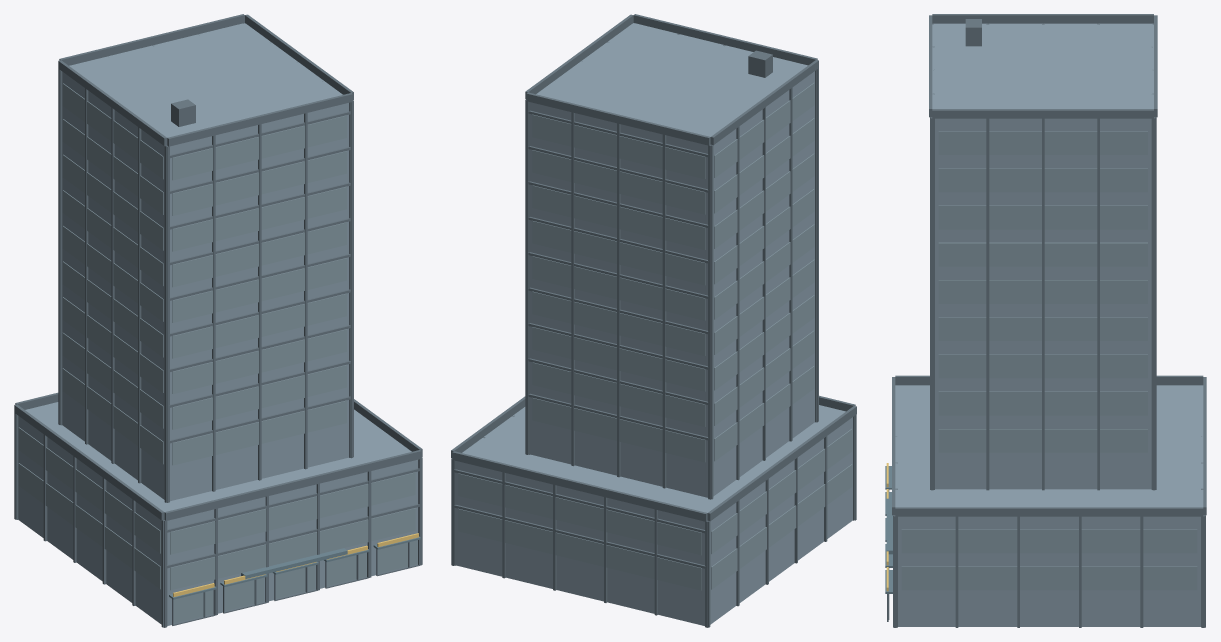
The model's file is commercial_3x3_b.glb.
3 renders of one model, left to right at view 1: azimuth 30°, elevation 25°; view 2: azimuth 150°, elevation 25°; view 3: azimuth 270°, elevation 25°, orthographic. The views are drawn at different scales.
Parts seen in each view (by area): view 1: commercial_3x3_b_0; view 2: commercial_3x3_b_0; view 3: commercial_3x3_b_0.
Boxes of the visible parts, x1=… form: commercial_3x3_b_0: x1=14, y1=14, x2=422, y2=627; commercial_3x3_b_0: x1=451, y1=14, x2=856, y2=627; commercial_3x3_b_0: x1=885, y1=14, x2=1206, y2=627.
Bounding box in the file's own units: 23 × 40.5 × 23.5.
